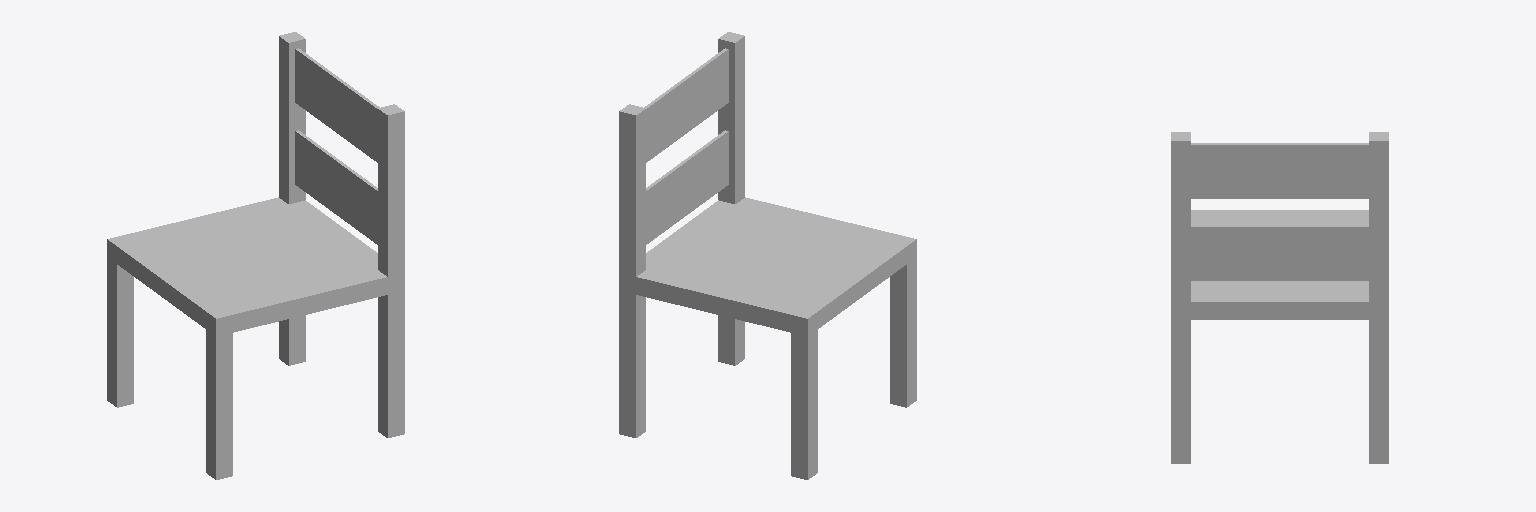
The model's file is stuhl.obj.
The picture shows the model from 3 angles: view 1: azimuth 30°, elevation 25°; view 2: azimuth 150°, elevation 25°; view 3: azimuth 270°, elevation 25°; orthographic projection.
Parts seen in each view (by area): view 1: Box006, Box004, Box008, Box007, Box005, Box003, Box002; view 2: Box006, Box005, Box008, Box007, Box004, Box002, Box003; view 3: Box006, Box007, Box008, Box005, Box004.
Part boxes in pixels (left/top/right/bottom): Box006: left=107, top=197, right=402, bottom=336; Box004: left=378, top=104, right=404, bottom=437; Box008: left=295, top=48, right=379, bottom=162; Box007: left=295, top=130, right=377, bottom=244; Box005: left=279, top=32, right=305, bottom=365; Box003: left=206, top=330, right=232, bottom=479; Box002: left=107, top=257, right=133, bottom=407; Box006: left=621, top=197, right=916, bottom=336; Box005: left=619, top=104, right=645, bottom=437; Box008: left=644, top=48, right=728, bottom=162; Box007: left=646, top=130, right=728, bottom=244; Box004: left=718, top=32, right=744, bottom=365; Box002: left=791, top=330, right=817, bottom=479; Box003: left=890, top=257, right=916, bottom=407; Box006: left=1171, top=210, right=1388, bottom=319; Box007: left=1191, top=225, right=1368, bottom=280; Box008: left=1191, top=143, right=1368, bottom=198; Box005: left=1369, top=132, right=1388, bottom=463; Box004: left=1171, top=132, right=1190, bottom=463.
Size of the model in its own units: 21.65 by 35.43 by 21.65.